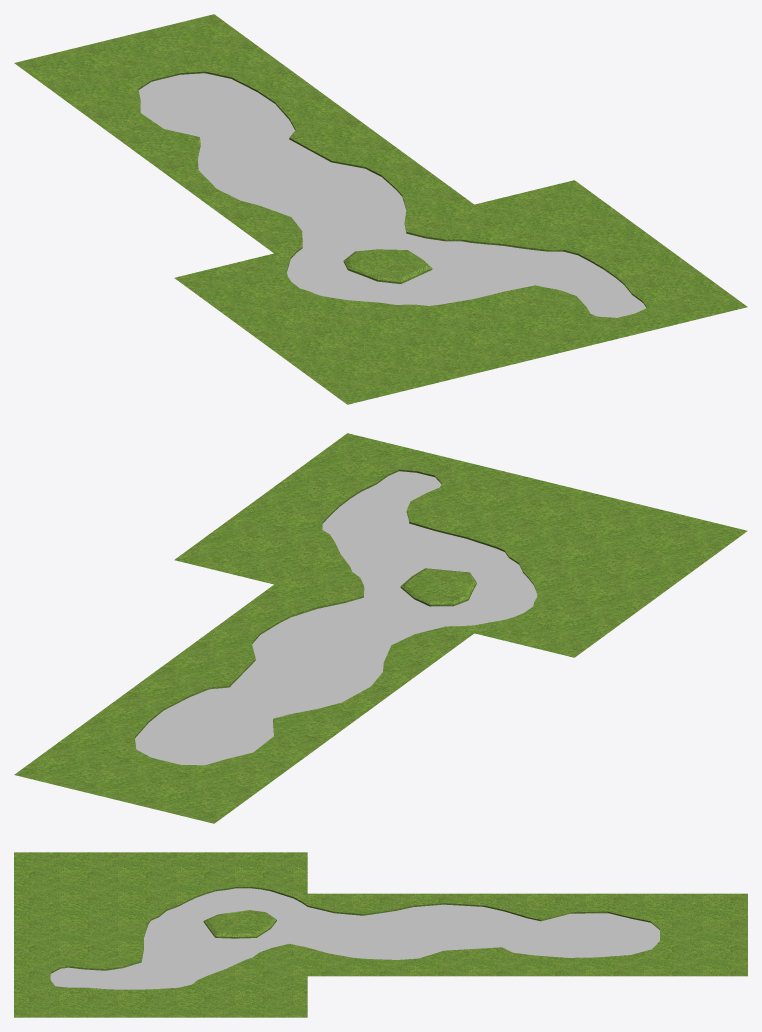
File: Platform.fbx
The picture shows the model from 3 angles, top to bottom: view 1: azimuth 30°, elevation 25°; view 2: azimuth 150°, elevation 25°; view 3: azimuth 270°, elevation 25°; orthographic projection. The views are drawn at different scales.
Parts seen in each view (by area): view 1: Plane; view 2: Plane; view 3: Plane.
Boxes of the visible parts, box(x1,y1,x2,y2) form: Plane: box(14, 14, 747, 404); Plane: box(14, 433, 747, 823); Plane: box(14, 852, 747, 1017).
Bounding box in the file's own units: 16 × 0.1305 × 30.
